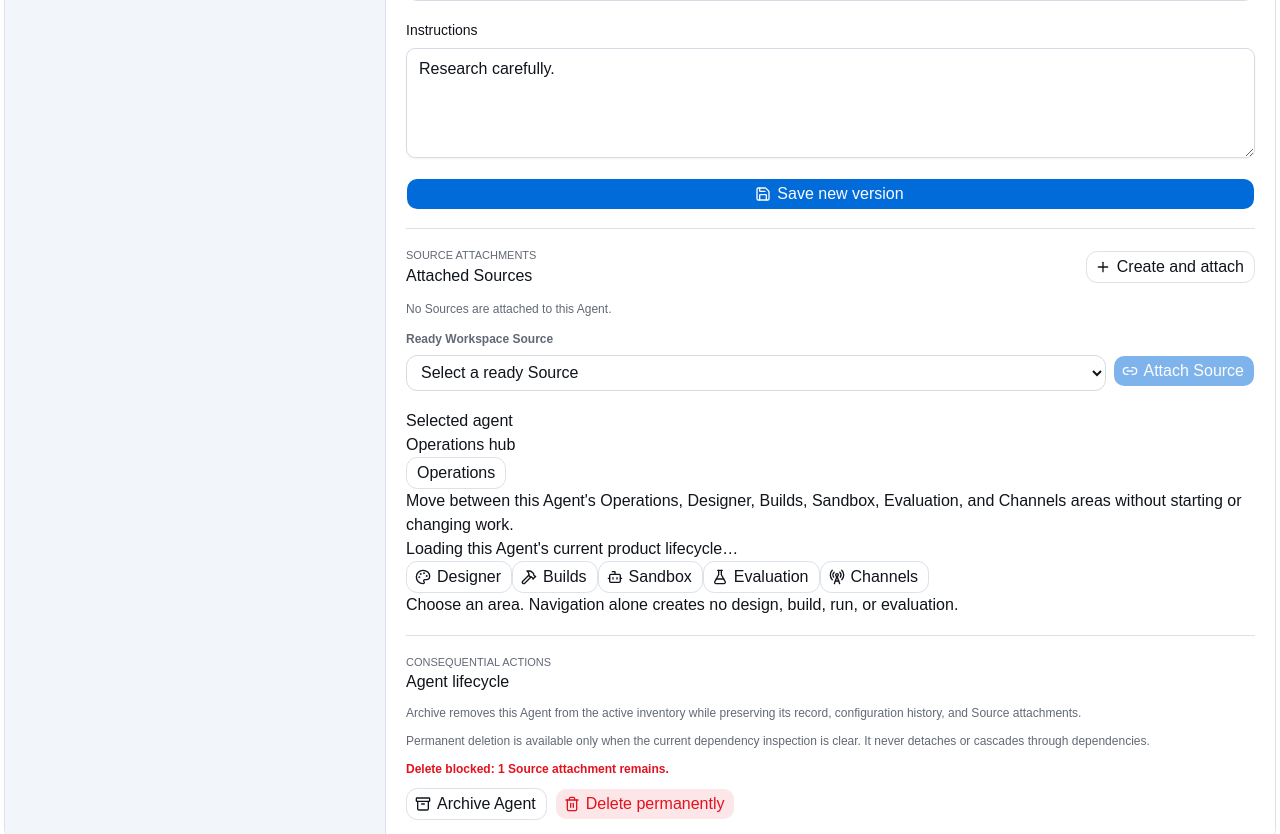
Test: shows current blockers and sends explicit deletion to the authoritative guard
(page scrolled)
Expected: the text "Delete blocked: 1 Source attachment remains." is shown, [406,762,669,776]
Click the button "Delete permanently": (645, 804) [555,788,736,820]
(page scrolled)
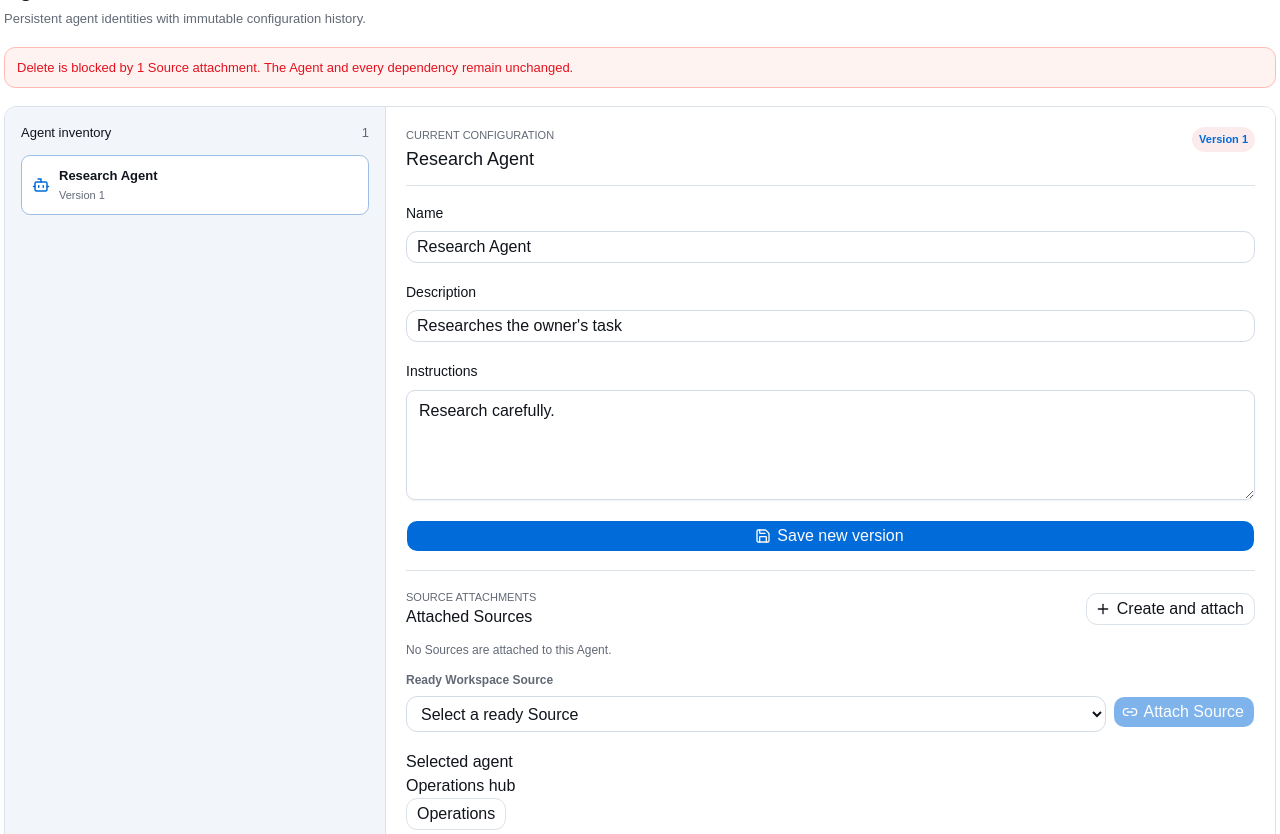
Expected: the message shows "Delete is blocked by 1 Source attachment. The Agent and every dependency remain unchanged.", [17,60,573,75]
